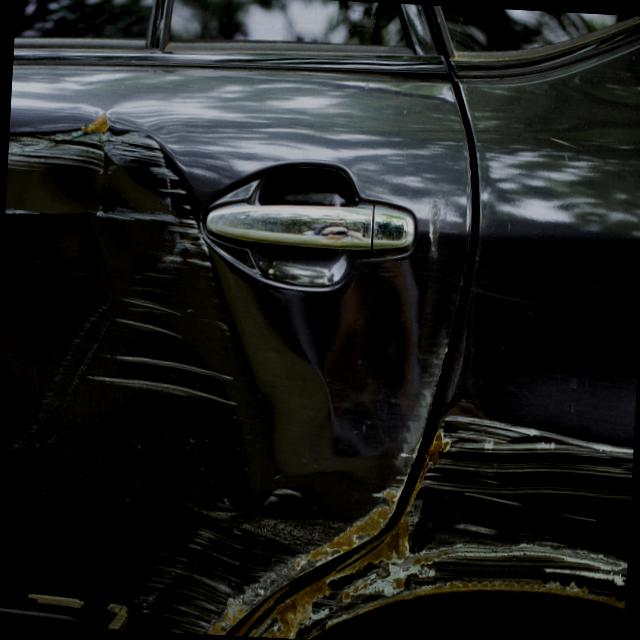Rayure: (98, 484, 384, 640), (427, 401, 636, 608), (3, 130, 215, 267), (84, 270, 255, 435)
